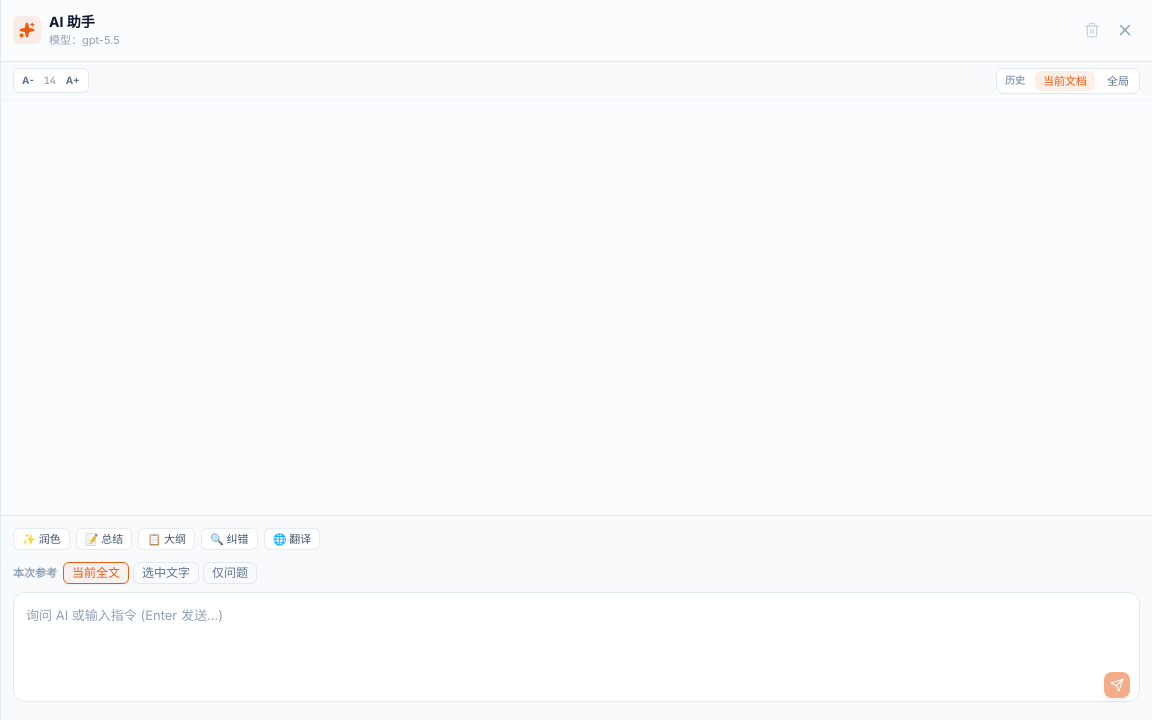
Scenario: SidebarRight AI insertion › persists generated image history with the local asset link returned by the app shell
Type "写一段内容" into the text box with placeholder "询问 AI 或输入指令 (Enter 发送...)".
click(576, 647); type("写一段内容")  # box [13,592,1140,702]
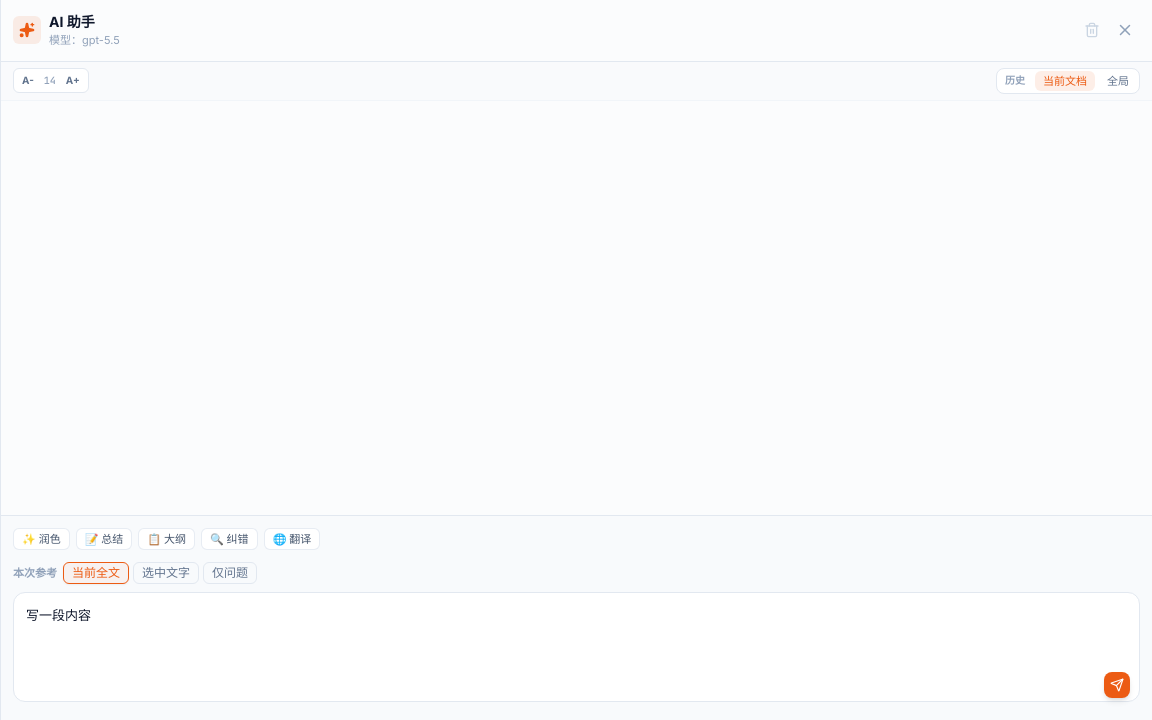
Press Enter in the text box with placeholder "询问 AI 或输入指令 (Enter 发送...)", box [13,592,1140,702]
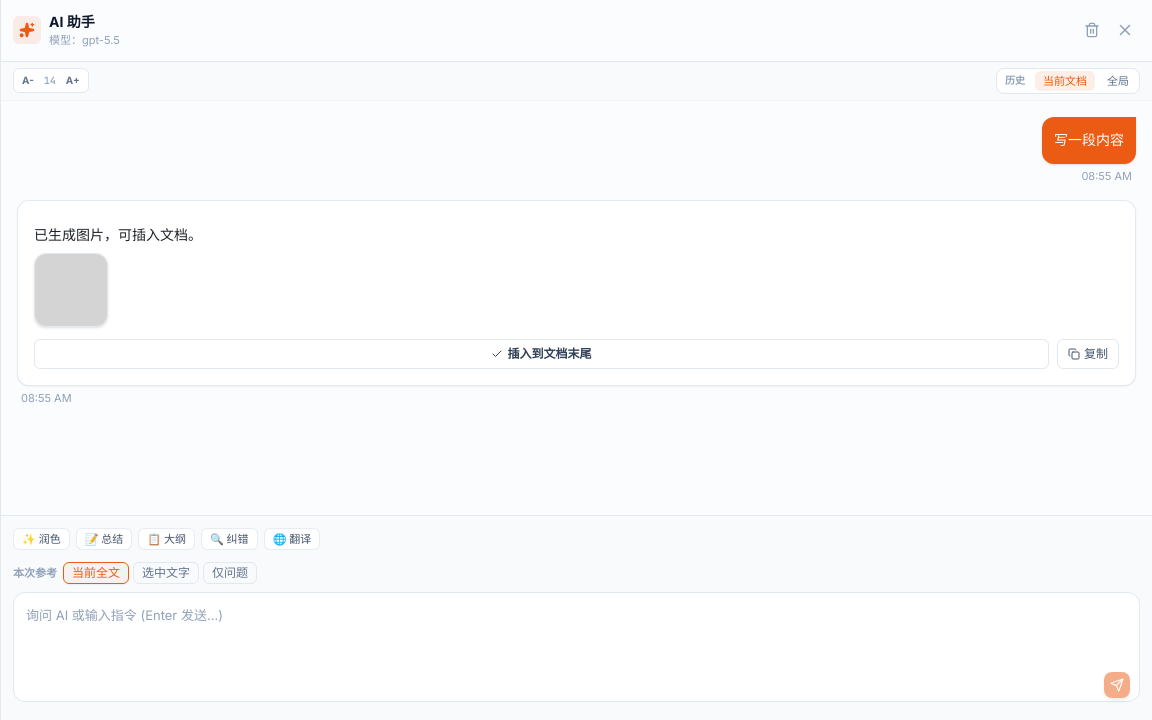
Result: the text "已生成图片，可插入文档。" is shown at [34,226,202,242]
